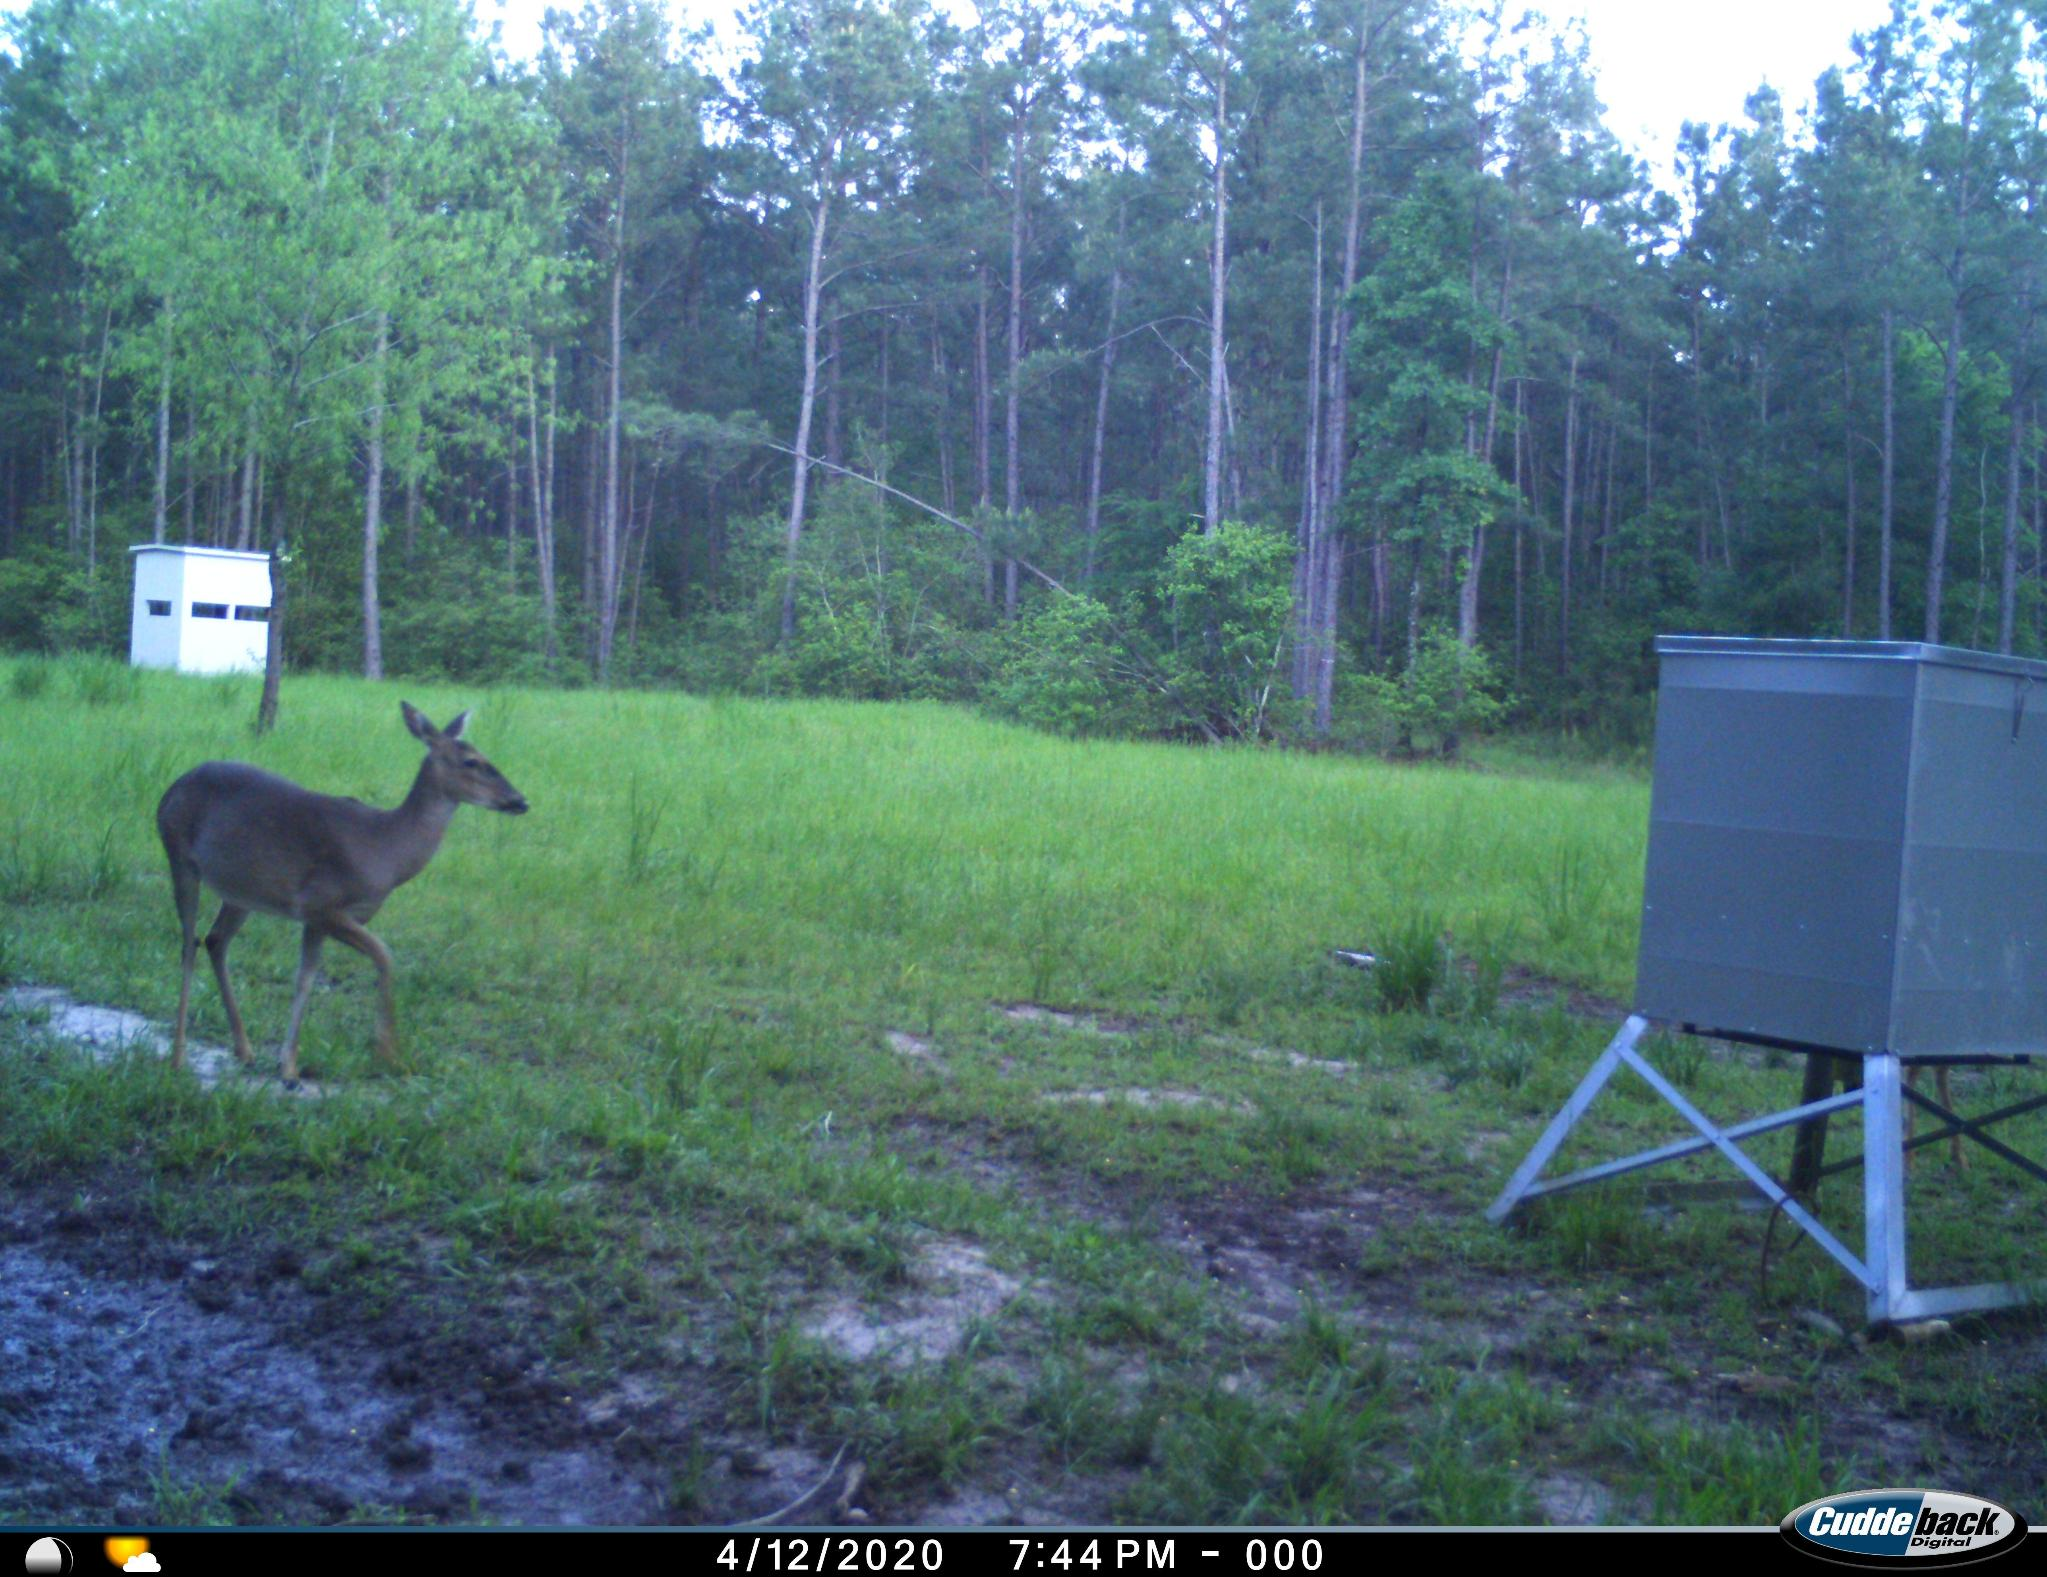Deer: (129, 689, 545, 1093)
